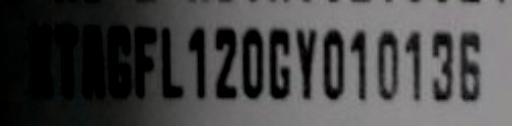letter: (22, 20, 56, 96), (453, 28, 487, 100), (183, 24, 213, 100), (400, 28, 430, 104), (320, 22, 348, 102), (291, 26, 321, 100), (265, 26, 295, 98), (236, 24, 264, 100), (106, 24, 134, 100), (157, 24, 185, 98), (210, 26, 238, 100), (373, 26, 401, 100), (55, 20, 81, 96), (134, 22, 158, 98), (349, 24, 373, 100), (430, 28, 452, 104), (81, 22, 103, 96)
